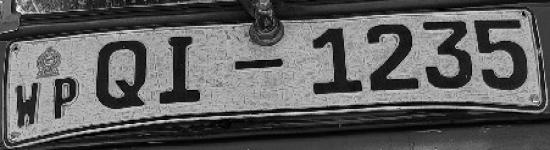-: (224, 48, 290, 82)
1: (299, 24, 366, 99)
2: (364, 20, 421, 99)
3: (419, 18, 474, 98)
5: (476, 15, 535, 97)
I: (154, 29, 207, 109)
P: (48, 75, 86, 123)
Q: (91, 36, 154, 115)
W: (12, 80, 45, 132)
